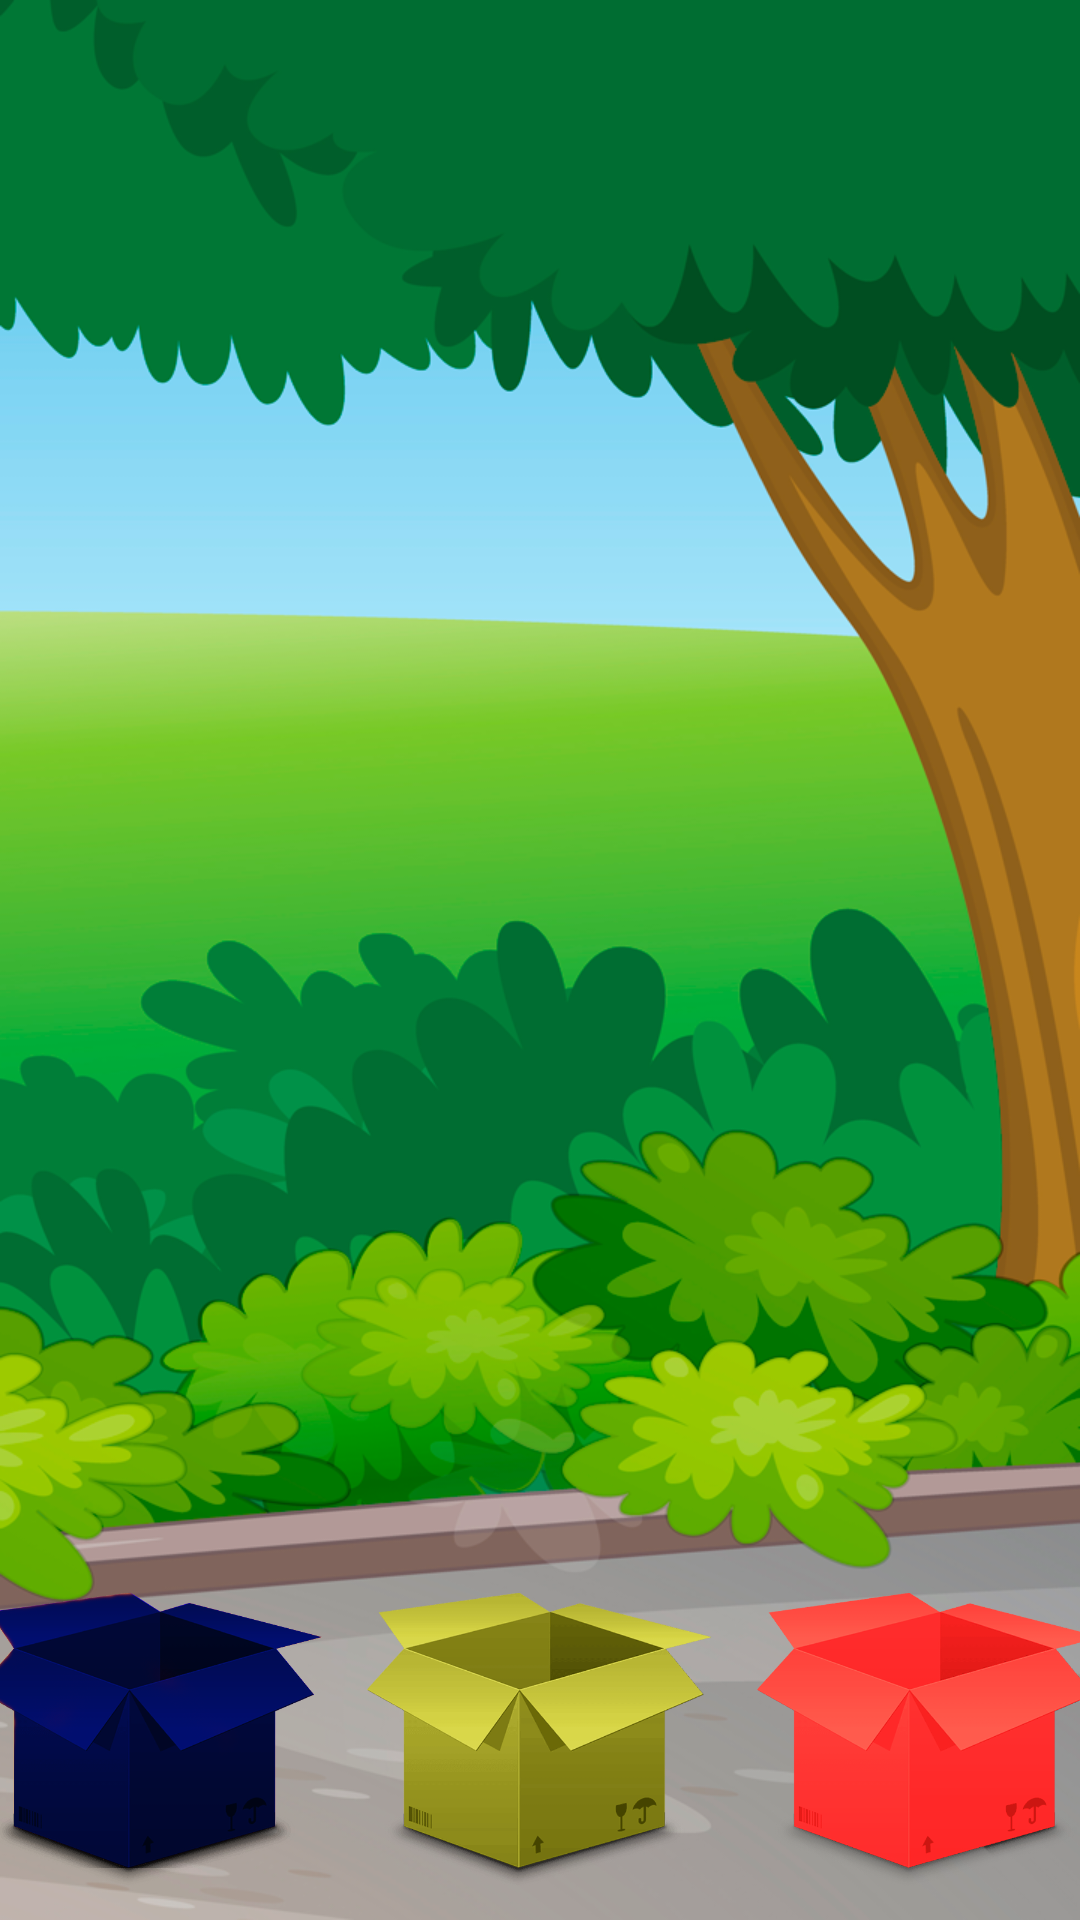

Where to tap for icons on this 1080px x 1920px app screen, as (x,y):
box: (165,1740), (540,1740), (915,1716)
